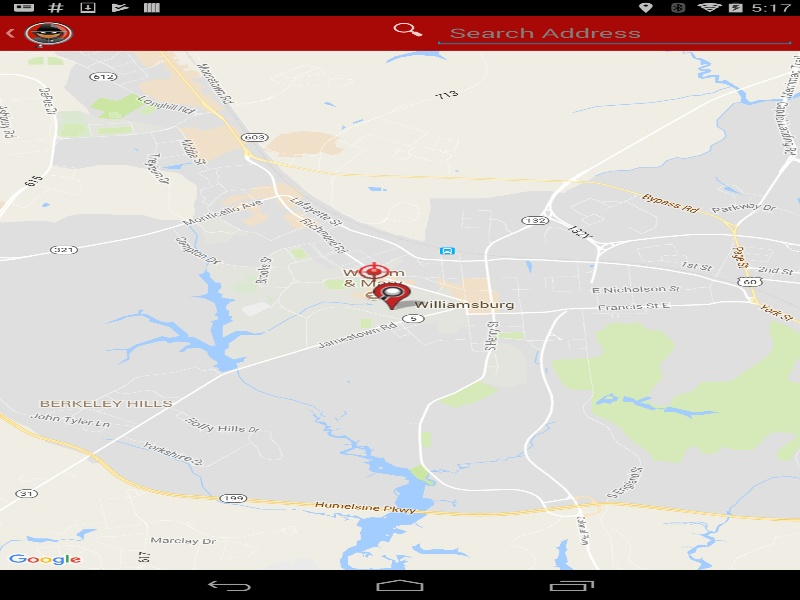Input: (433, 19, 796, 46)
